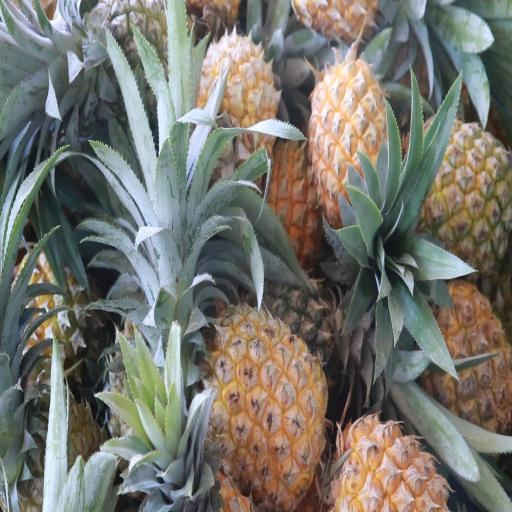Pineapple - v8 v1: (212, 301, 326, 507), (312, 62, 399, 233), (419, 113, 512, 272), (419, 279, 512, 433), (328, 408, 452, 512), (197, 25, 277, 167)
